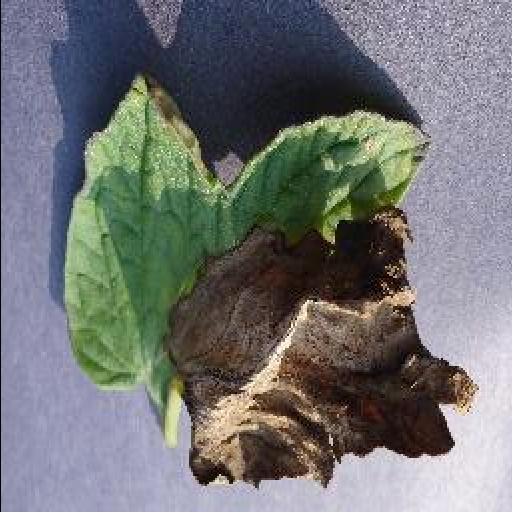disease_tomato: (58, 61, 480, 491)
